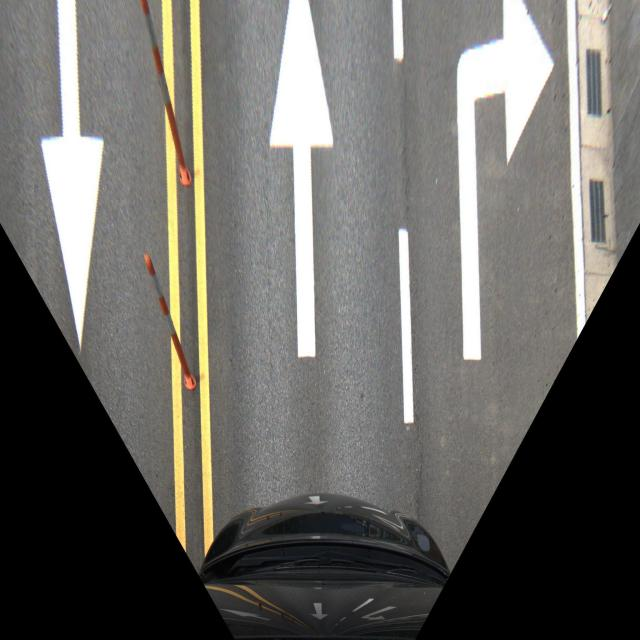forward: (193, 0, 407, 425)
right: (384, 5, 582, 426)
